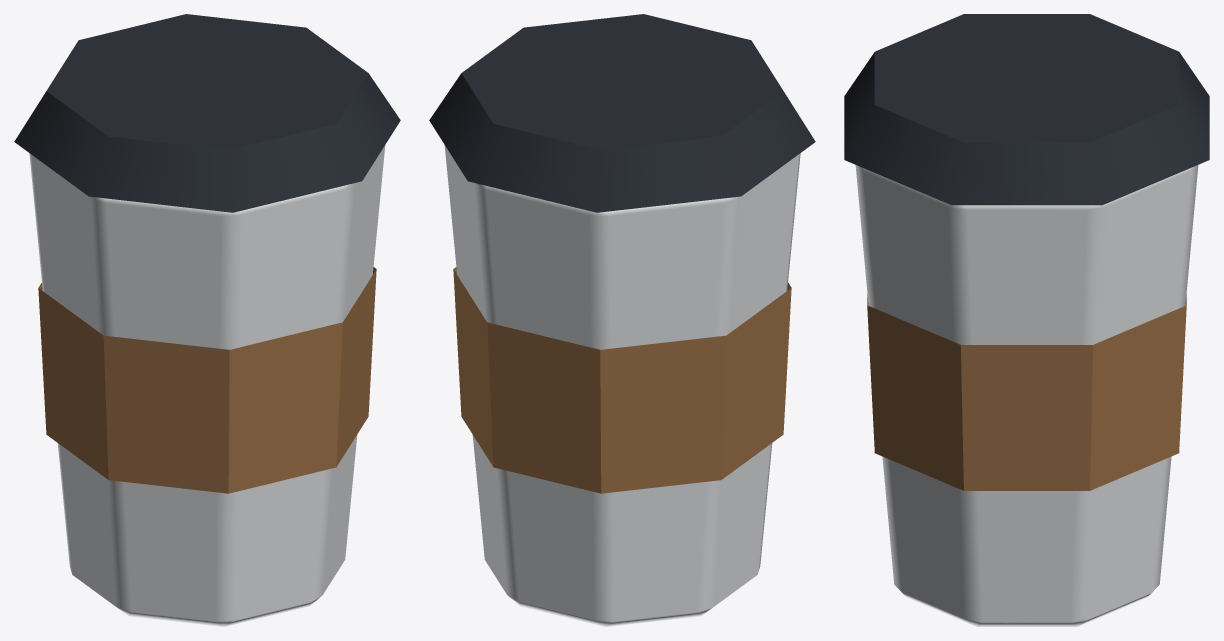
Rendered from CM_Product_CoffeeCup.fbx.
3 renders of one model, left to right at view 1: azimuth 30°, elevation 25°; view 2: azimuth 150°, elevation 25°; view 3: azimuth 270°, elevation 25°, orthographic.
Parts seen in each view (by area): view 1: CoffeeCup; view 2: CoffeeCup; view 3: CoffeeCup.
Boxes of the visible parts, x1=… form: CoffeeCup: x1=14, y1=14, x2=400, y2=626; CoffeeCup: x1=429, y1=14, x2=815, y2=626; CoffeeCup: x1=844, y1=14, x2=1209, y2=626.
Bounding box in the file's own units: 0.6652 × 0.6652 × 1.
Materials: 1 (1 with a texture image).
